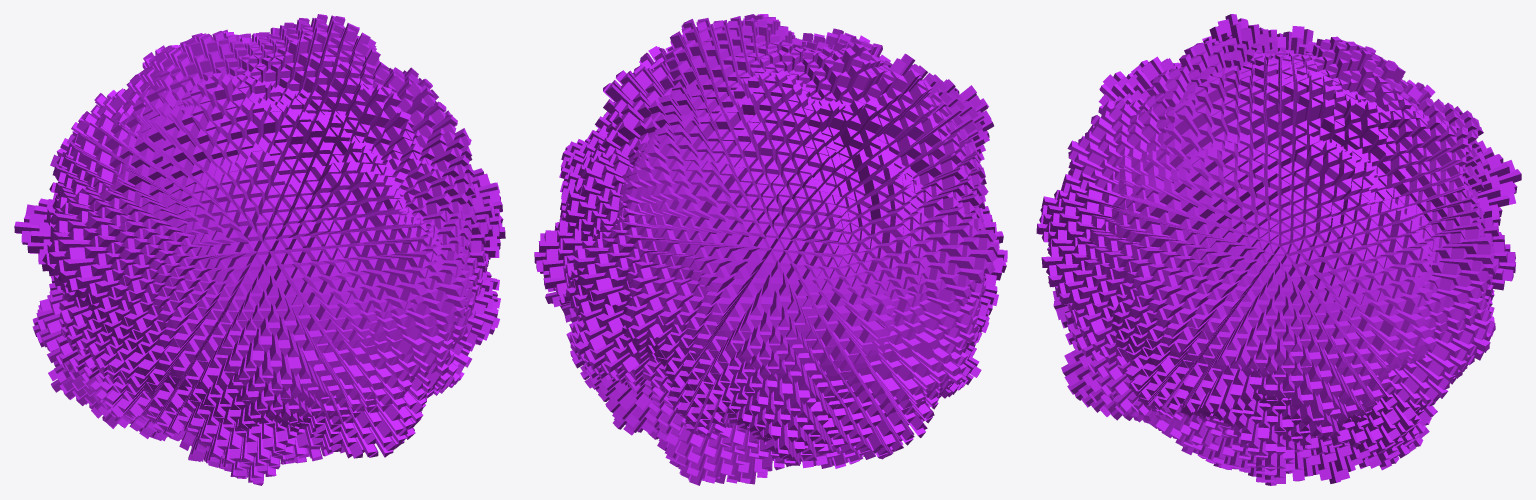
Rendered from ModelB.glb.
3 renders of one model, left to right at view 1: azimuth 30°, elevation 25°; view 2: azimuth 150°, elevation 25°; view 3: azimuth 270°, elevation 25°, orthographic.
Parts seen in each view (by area): view 1: Cube.001; view 2: Cube.001; view 3: Cube.001.
Part boxes in pixels (x1=…): Cube.001: x1=14, y1=14, x2=505, y2=485; Cube.001: x1=534, y1=14, x2=1007, y2=485; Cube.001: x1=1036, y1=14, x2=1521, y2=485.
Bounding box in the file's own units: 3.39 × 3.14 × 3.34.
